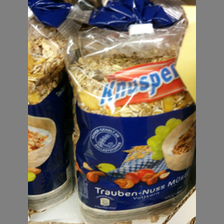cereal: (64, 24, 197, 220)
